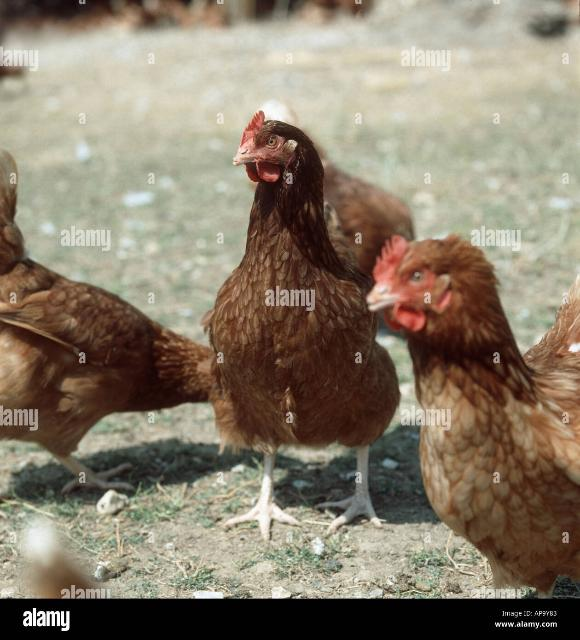Chicken: (203, 109, 399, 537), (368, 235, 580, 597), (0, 149, 220, 491)
